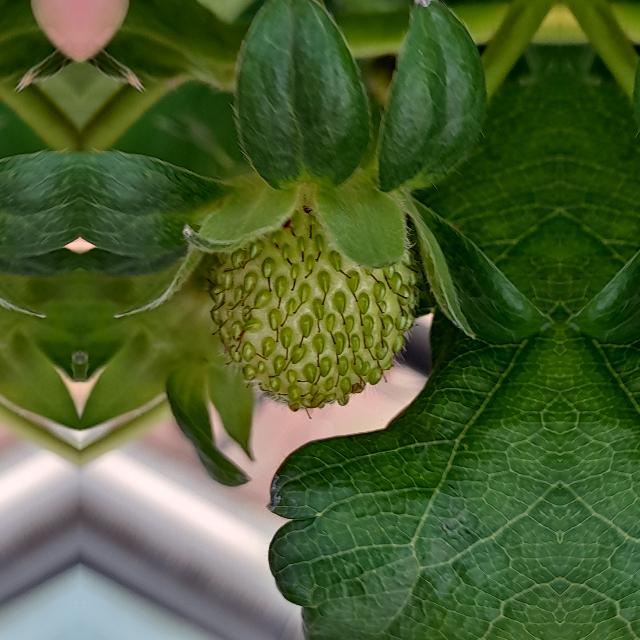Health_25: (204, 187, 423, 419)
